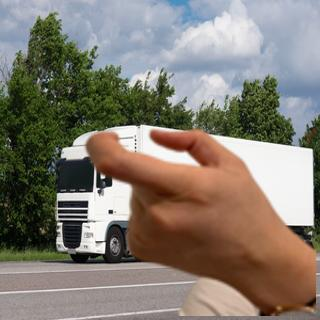HATE: (80, 124, 285, 284)
